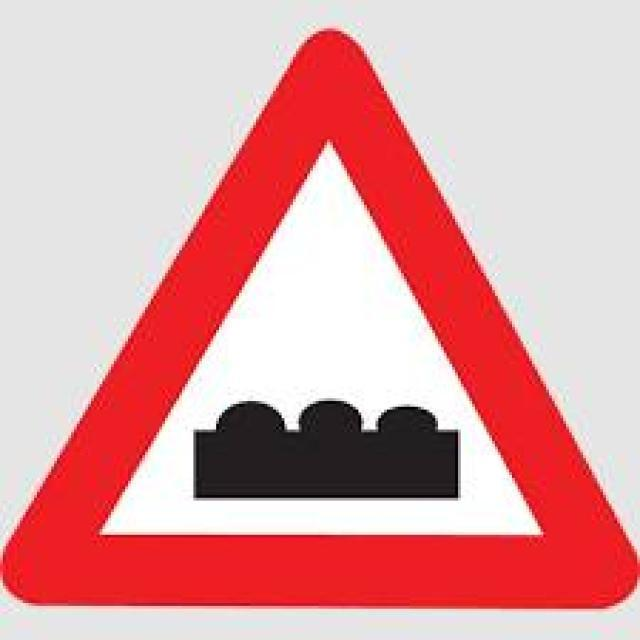hump or rough road: (24, 18, 622, 616)
